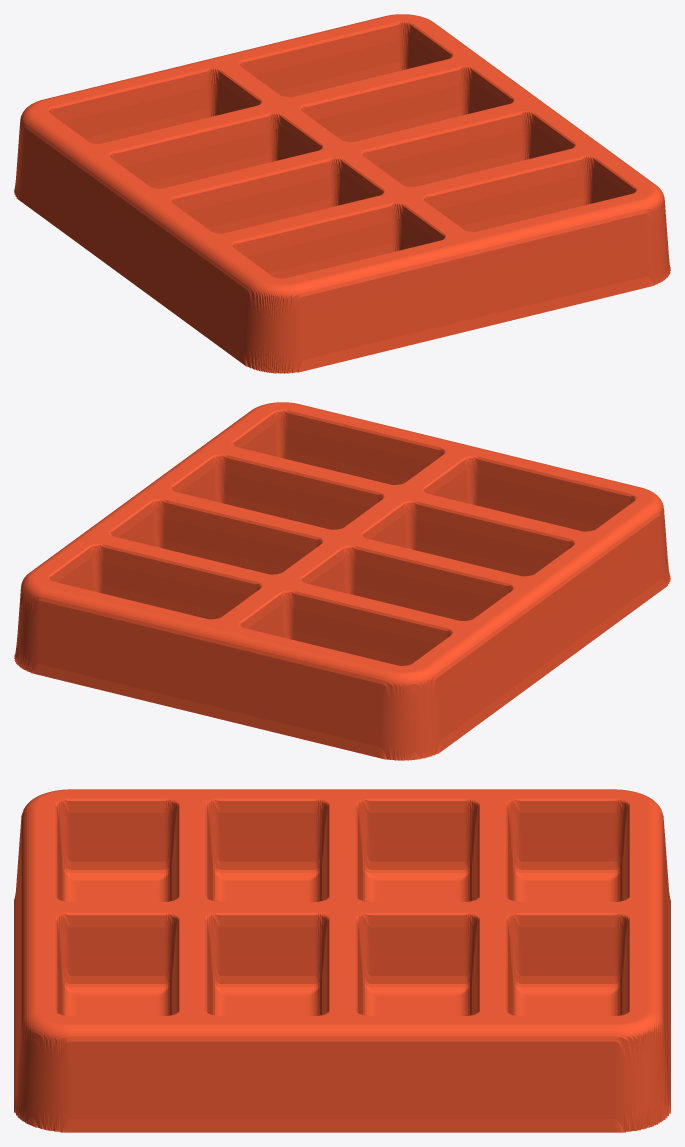
Rendered from mold.glb.
3 renders of one model, top to bottom at view 1: azimuth 30°, elevation 25°; view 2: azimuth 150°, elevation 25°; view 3: azimuth 270°, elevation 25°, orthographic. The views are drawn at different scales.
Visible parts, largest first — view 1: geometry_0; view 2: geometry_0; view 3: geometry_0.
Part boxes in pixels (box(x1,y1,x2,y2)): geometry_0: box(14, 14, 670, 373); geometry_0: box(14, 402, 670, 760); geometry_0: box(14, 789, 670, 1132).
Size of the model in its own units: 0.0956 by 0.0175 by 0.1052.
